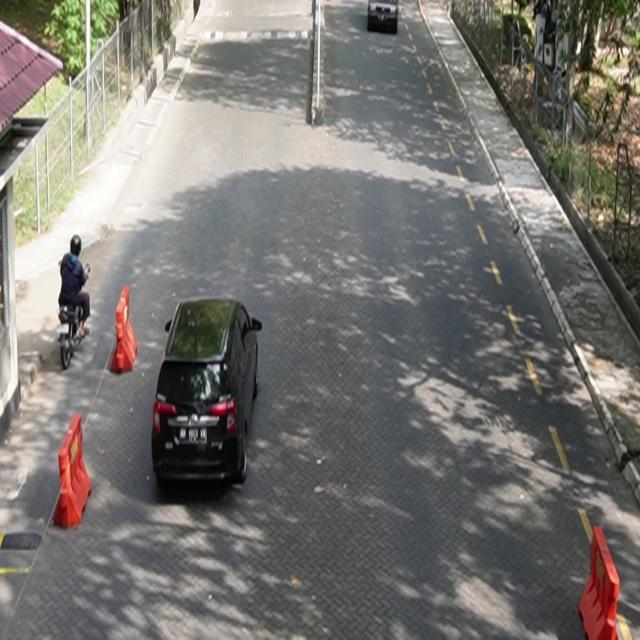car: (152, 297, 263, 487)
